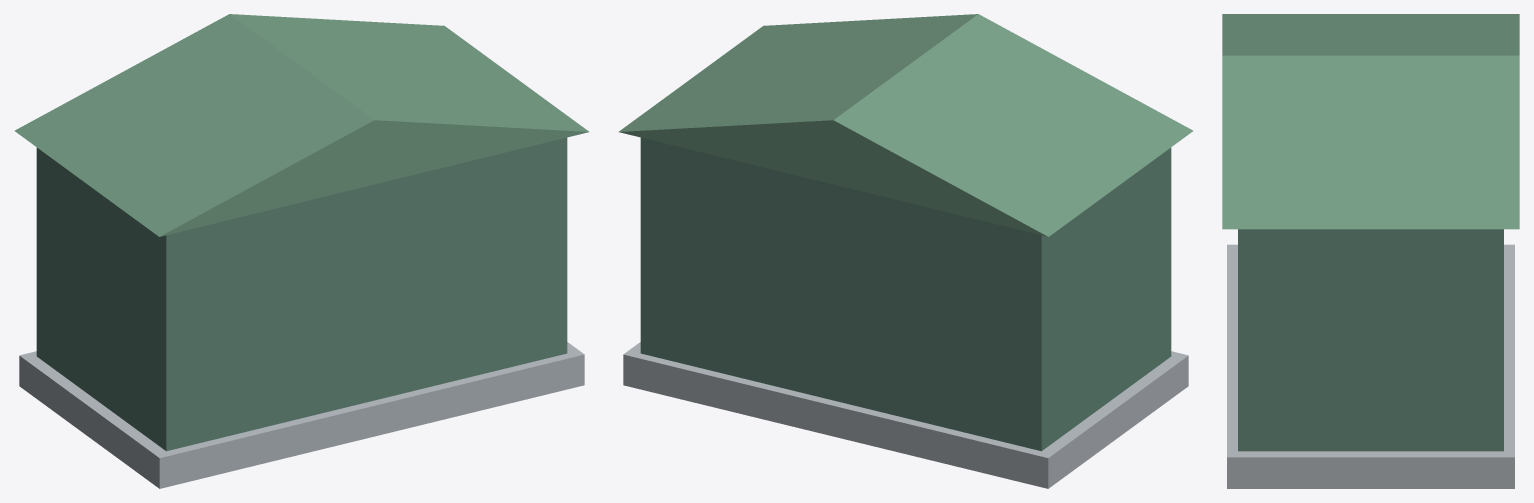
The model's file is blue_lake_boathouse_far-DKek1__H.glb.
3 renders of one model, left to right at view 1: azimuth 30°, elevation 25°; view 2: azimuth 150°, elevation 25°; view 3: azimuth 270°, elevation 25°, orthographic. The views are drawn at different scales.
Visible parts, largest first — view 1: blue_lake_boathouse_far; view 2: blue_lake_boathouse_far; view 3: blue_lake_boathouse_far.
Boxes of the visible parts, x1,y1,x2,y2 form: blue_lake_boathouse_far: [14, 14, 588, 488]; blue_lake_boathouse_far: [619, 14, 1193, 488]; blue_lake_boathouse_far: [1222, 14, 1519, 488].
Bounding box in the file's own units: 8.05 × 5.69 × 4.7.
